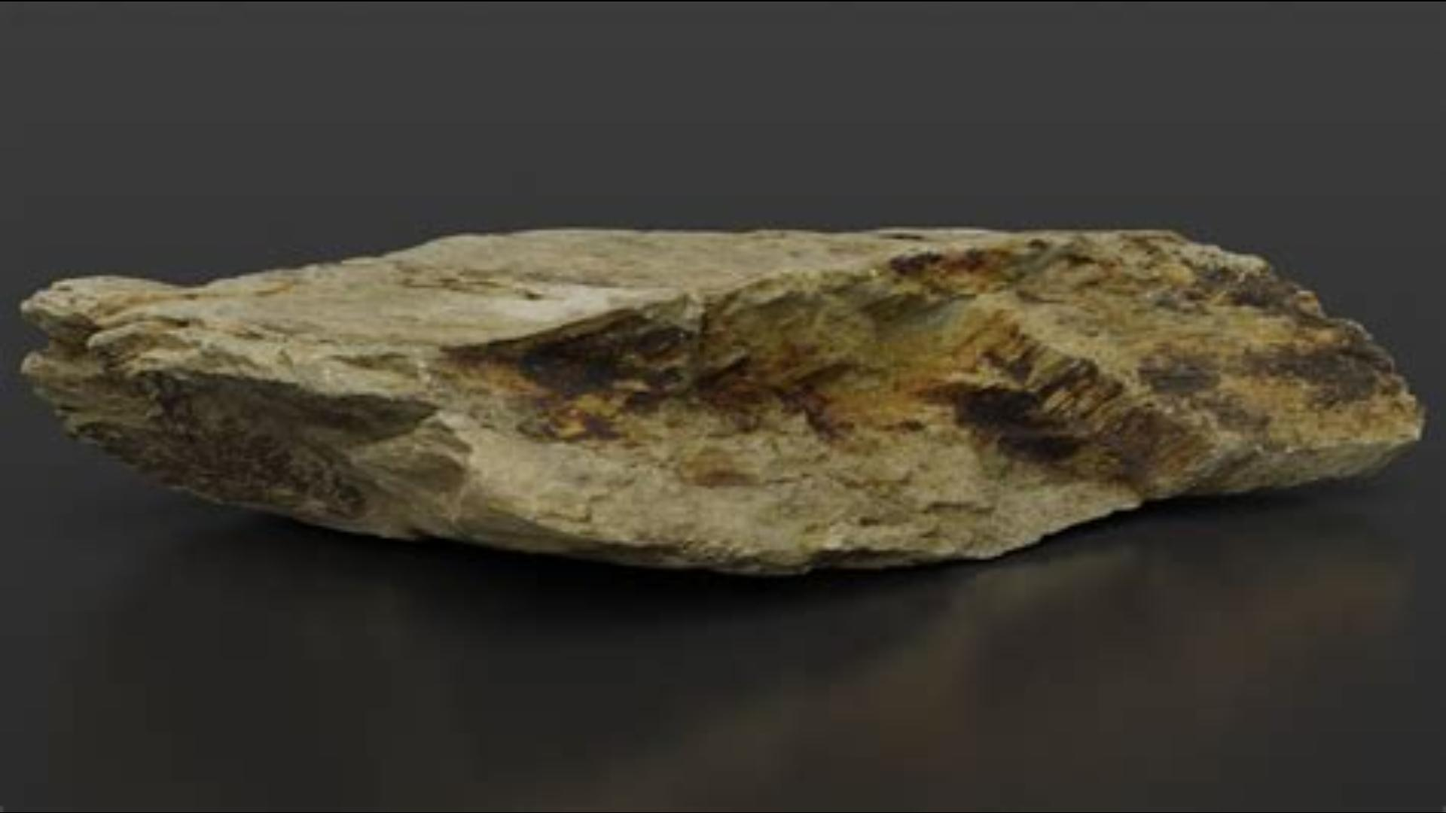rock: (24, 229, 1419, 562)
